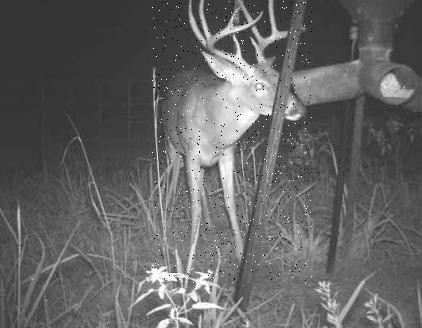Deer: (152, 0, 312, 286)
